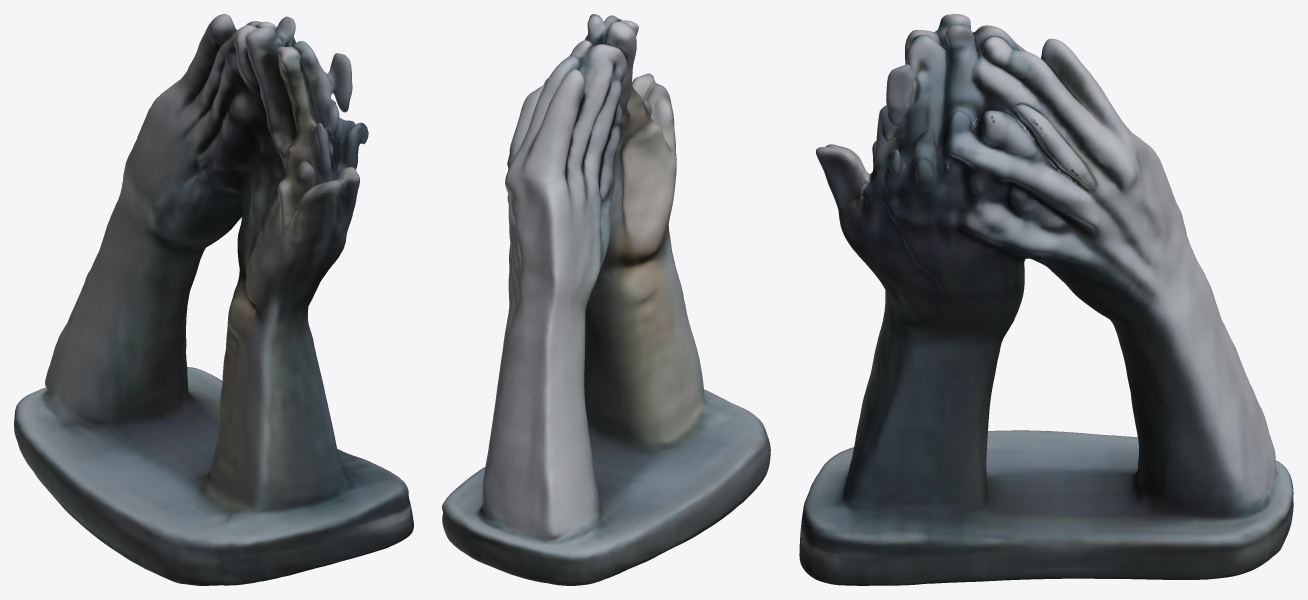
Rendered from 50cd94287560_hands_sculpture__3d.fbx.
3 renders of one model, left to right at view 1: azimuth 30°, elevation 25°; view 2: azimuth 150°, elevation 25°; view 3: azimuth 270°, elevation 25°, orthographic. The views are drawn at different scales.
Parts seen in each view (by area): view 1: high_poly; view 2: high_poly; view 3: high_poly.
Boxes of the visible parts, x1=… form: high_poly: x1=14, y1=14, x2=413, y2=585; high_poly: x1=442, y1=14, x2=770, y2=585; high_poly: x1=799, y1=14, x2=1293, y2=585.
Size of the model in its own units: 50.05 by 100 by 81.93.
